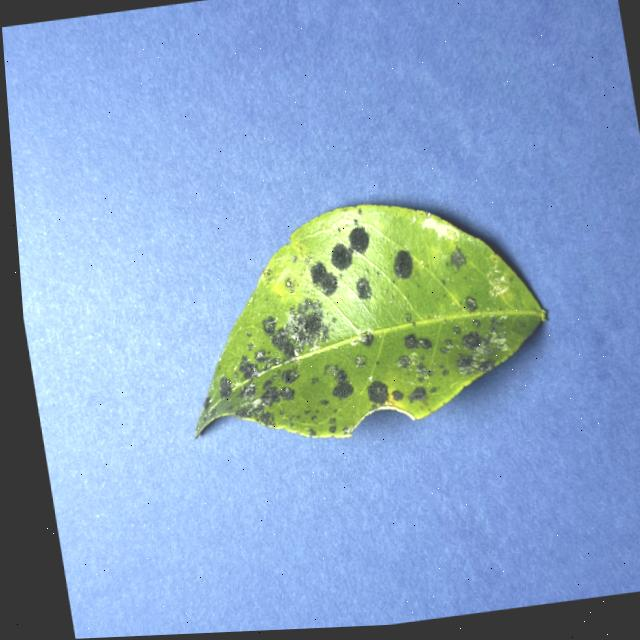sooty_mold: (195, 205, 525, 437)
